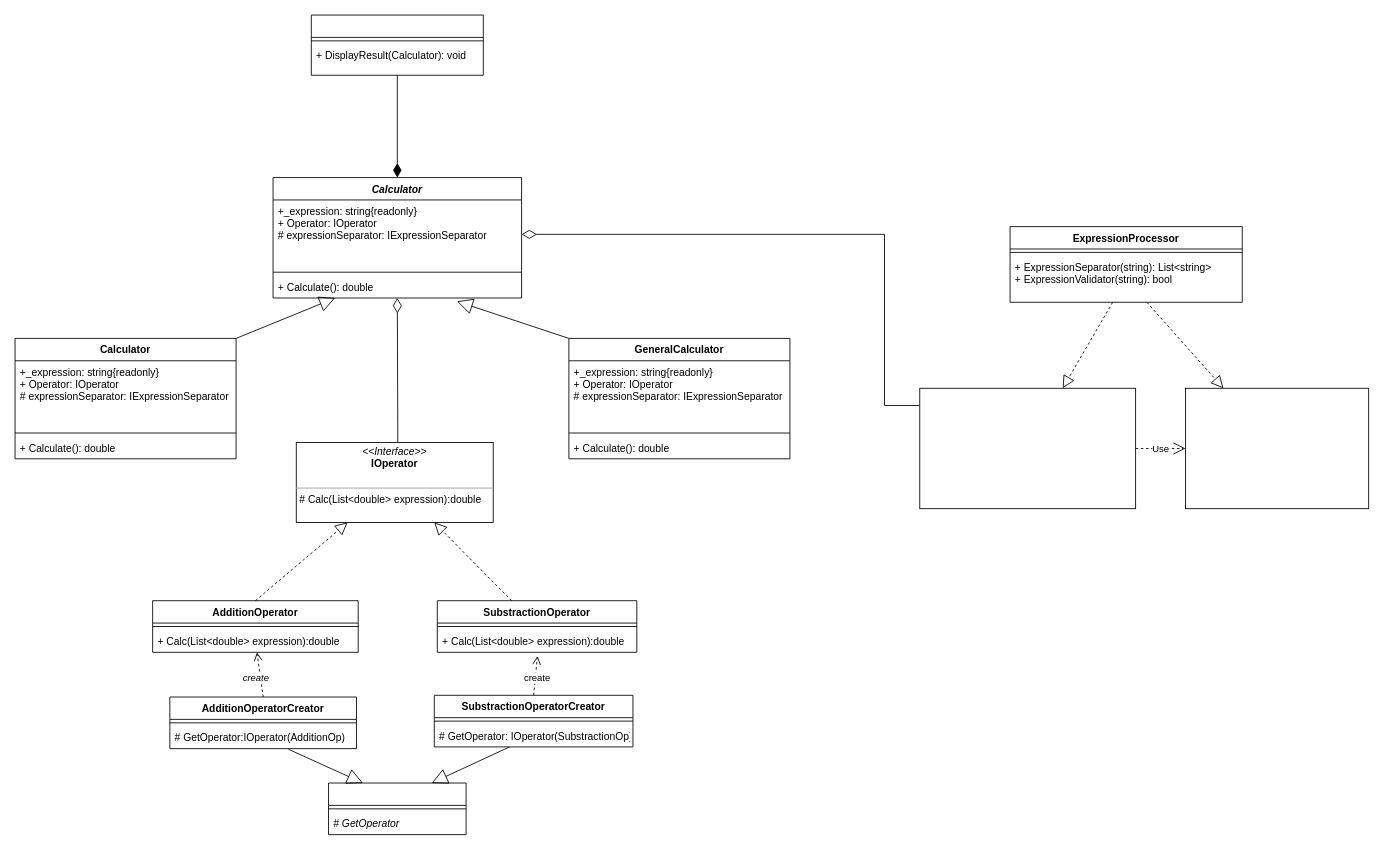
The diagram is 1384 pixels wide and 852 high, and some of its shapes have lost their labels. The box of each missing label's shape, as (x1, y1, x2, y2) in pixels:
<<Interface>> IExpressionSeparator + ExpressionSeparator(string): List<string>: (919, 387, 1136, 509)
<<Interface>> IExpressionValidator + ExpressionValidator(string): bool: (1185, 387, 1369, 509)
CalculatorDisplay: (310, 14, 483, 75)
Creator: (328, 782, 466, 835)
